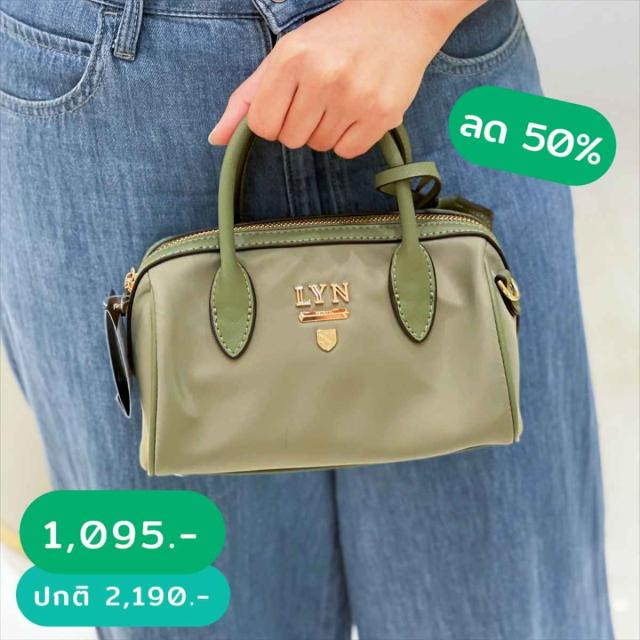handbag: (128, 198, 516, 480)
